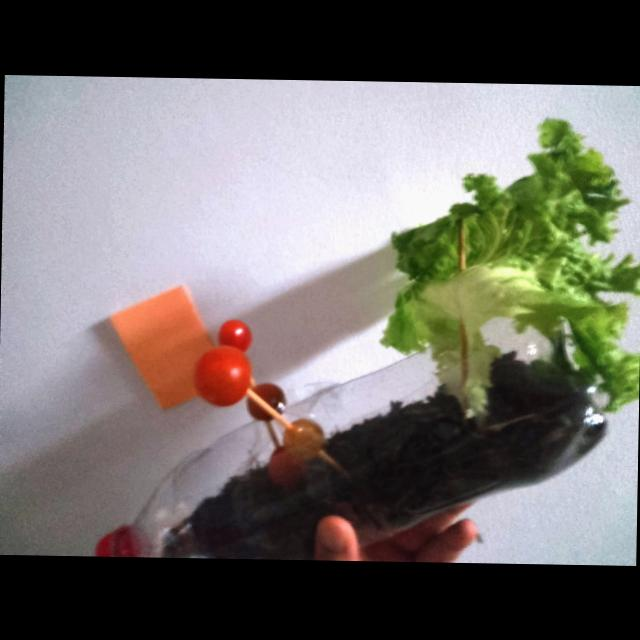card: (110, 285, 213, 407)
fruit_maturation: (283, 419, 325, 460)
fully_grown: (195, 319, 252, 406), (194, 345, 250, 406), (267, 446, 304, 486), (253, 383, 286, 413), (247, 400, 272, 421)
